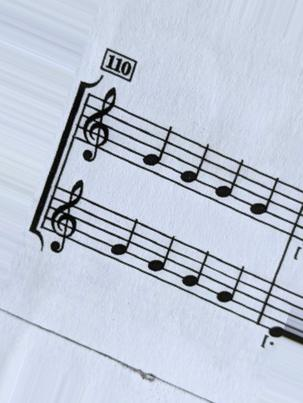note: (211, 142, 246, 223), (248, 164, 284, 233), (138, 116, 176, 179), (179, 132, 211, 204), (214, 257, 248, 319), (146, 220, 176, 288), (177, 242, 212, 299), (110, 204, 138, 268)
